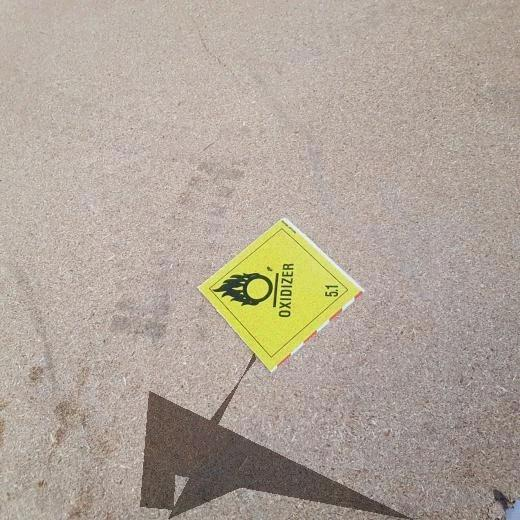oxidizer: (199, 219, 362, 370)
